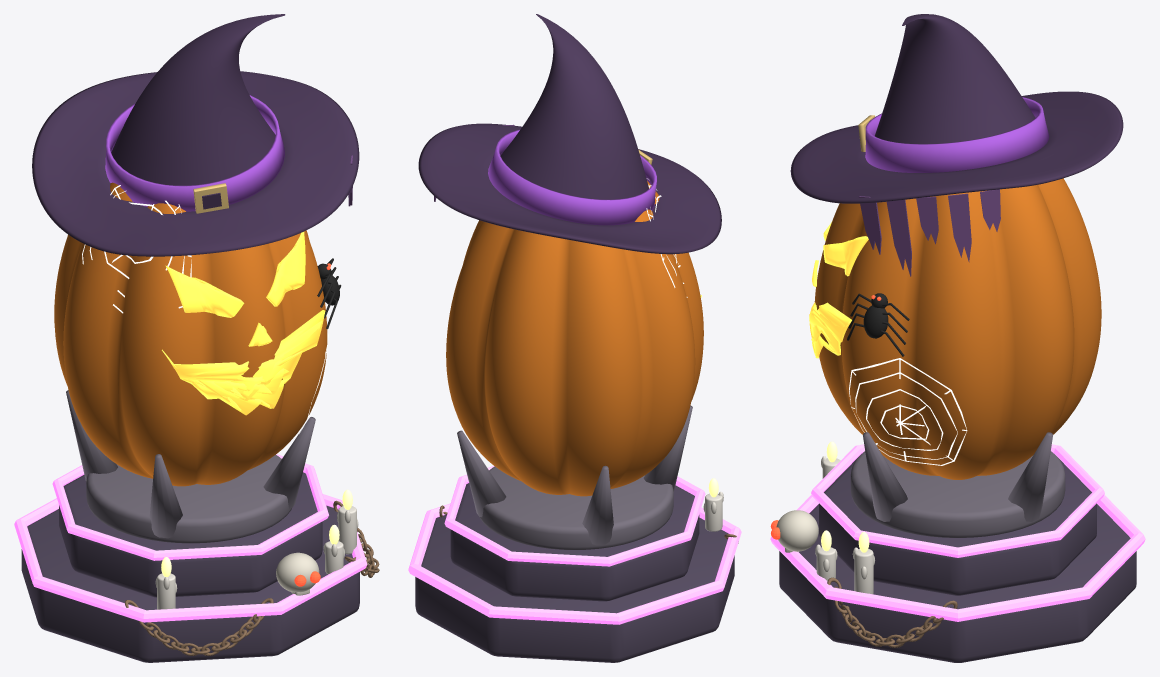
File: dm_pumpkinegg.glb
3 renders of one model, left to right at view 1: azimuth 30°, elevation 25°; view 2: azimuth 150°, elevation 25°; view 3: azimuth 270°, elevation 25°, orthographic. The views are drawn at different scales.
Parts seen in each view (by area): view 1: PumpkinEgg_Body, Hat_Brim, Stand_Base, Hat_Cone, Stand_Mid, Stand_Cup, Stand_Trim, Face_Mouth, Hat_Band, Stand_Trim2, Face_EyeL, Stand_Claw3 (+8 smaller); view 2: PumpkinEgg_Body, Stand_Base, Hat_Brim, Hat_Cone, Stand_Mid, Stand_Cup, Stand_Trim, Hat_Band, Stand_Trim2, Stand_Claw0, Stand_Claw1, Stand_Claw2 (+1 smaller); view 3: PumpkinEgg_Body, Stand_Base, Hat_Brim, Hat_Cone, Stand_Mid, Stand_Cup, Stand_Trim, Hat_Band, Stand_Trim2, EggWeb_Bottom, Stand_Claw0, Stand_Claw3 (+10 smaller).
Boxes of the visible parts, <box> form: PumpkinEgg_Body: <box>54,182,327,486</box>; Hat_Brim: <box>32,71,359,256</box>; Stand_Base: <box>21,505,359,662</box>; Hat_Cone: <box>111,14,285,185</box>; Stand_Mid: <box>59,472,322,597</box>; Stand_Cup: <box>86,455,291,543</box>; Stand_Trim: <box>14,494,367,622</box>; Face_Mouth: <box>162,310,325,415</box>; Hat_Band: <box>105,95,284,211</box>; Stand_Trim2: <box>52,454,328,560</box>; Face_EyeL: <box>165,265,244,317</box>; Stand_Claw3: <box>263,417,315,508</box>; PumpkinEgg_Body: <box>446,181,703,496</box>; Stand_Base: <box>415,514,734,662</box>; Hat_Brim: <box>418,123,721,254</box>; Hat_Cone: <box>500,14,648,199</box>; Stand_Mid: <box>450,483,699,601</box>; Stand_Cup: <box>479,466,673,549</box>; Stand_Trim: <box>408,503,741,624</box>; Hat_Band: <box>488,129,656,225</box>; Stand_Trim2: <box>444,466,705,566</box>; Stand_Claw0: <box>457,430,506,517</box>; Stand_Claw1: <box>582,465,613,545</box>; Stand_Claw2: <box>643,405,692,492</box>; PumpkinEgg_Body: <box>814,178,1101,479</box>; Stand_Base: <box>779,504,1136,662</box>; Hat_Brim: <box>790,91,1123,203</box>; Hat_Cone: <box>875,14,1035,144</box>; Stand_Mid: <box>819,458,1096,595</box>; Stand_Cup: <box>850,451,1065,537</box>; Stand_Trim: <box>770,495,1145,621</box>; Hat_Band: <box>865,97,1049,172</box>; Stand_Trim2: <box>811,444,1104,557</box>; EggWeb_Bottom: <box>849,358,967,465</box>; Stand_Claw0: <box>1008,432,1052,521</box>; Stand_Claw3: <box>863,432,907,521</box>.
Size of the model in its own units: 3.32 by 6.03 by 3.32.
